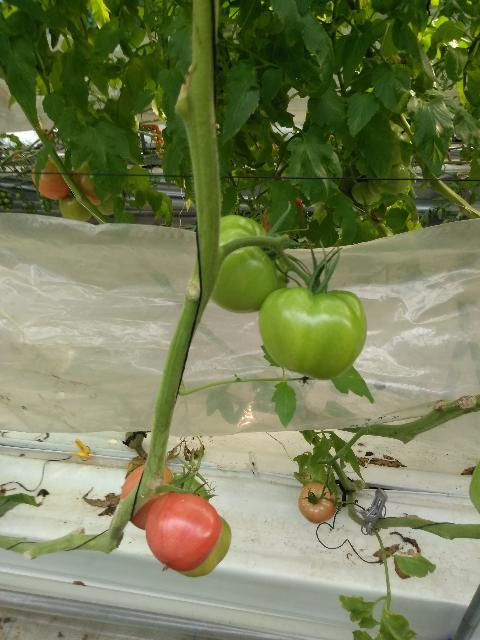b_fully_ripened: (145, 492, 223, 571)
b_green: (259, 287, 367, 380), (201, 214, 287, 313), (175, 515, 232, 577), (171, 473, 210, 502)
b_half_ripened: (120, 462, 174, 531), (298, 482, 337, 524)
